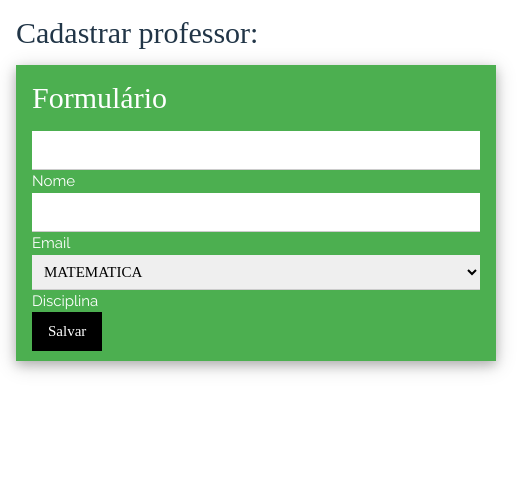
Scenario: FormTeacher › should return Error FormTeacher component.
This screenshot has width=522, height=491.
Click the button "Salvar" at (67, 331), box [32,312,102,351]
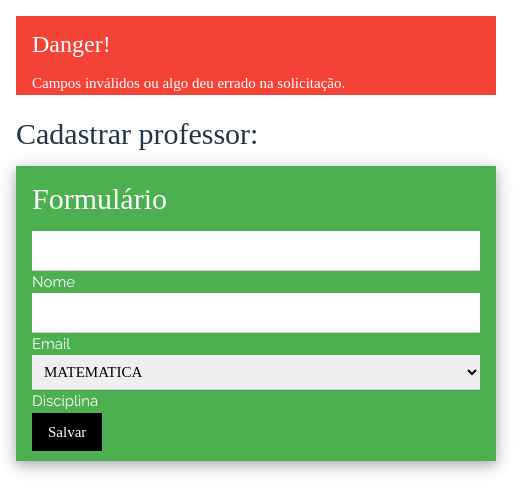
Result: the text "Campos inválidos ou algo deu errado na solicitação." is shown at [32,75,345,91]
